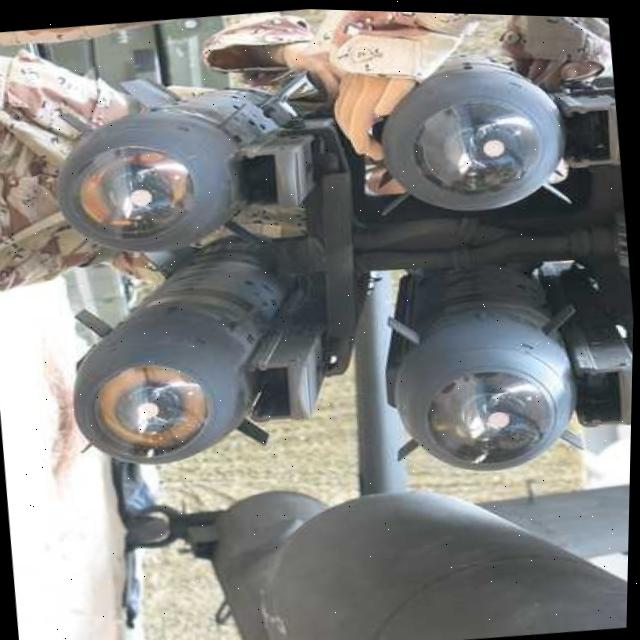missile: (48, 224, 334, 472), (46, 62, 325, 261), (371, 247, 587, 476), (354, 44, 573, 223)
